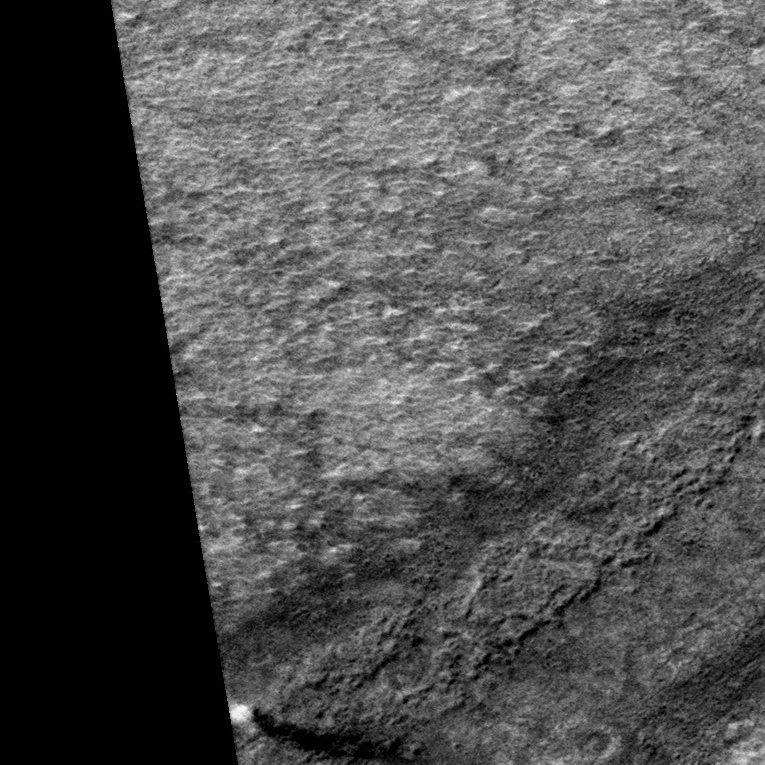dust_devil: (227, 702, 413, 764)
